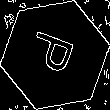P_E: (27, 29, 83, 81)
